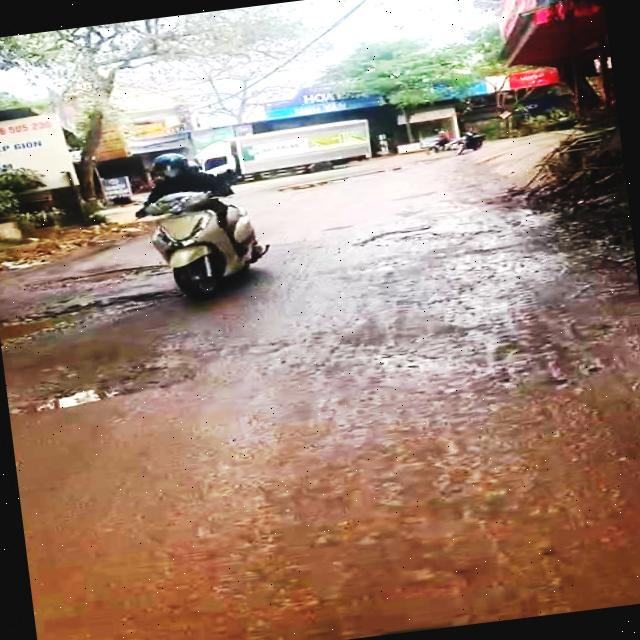pothole: (0, 280, 185, 351), (5, 357, 193, 418), (357, 217, 491, 253), (76, 257, 178, 286)
